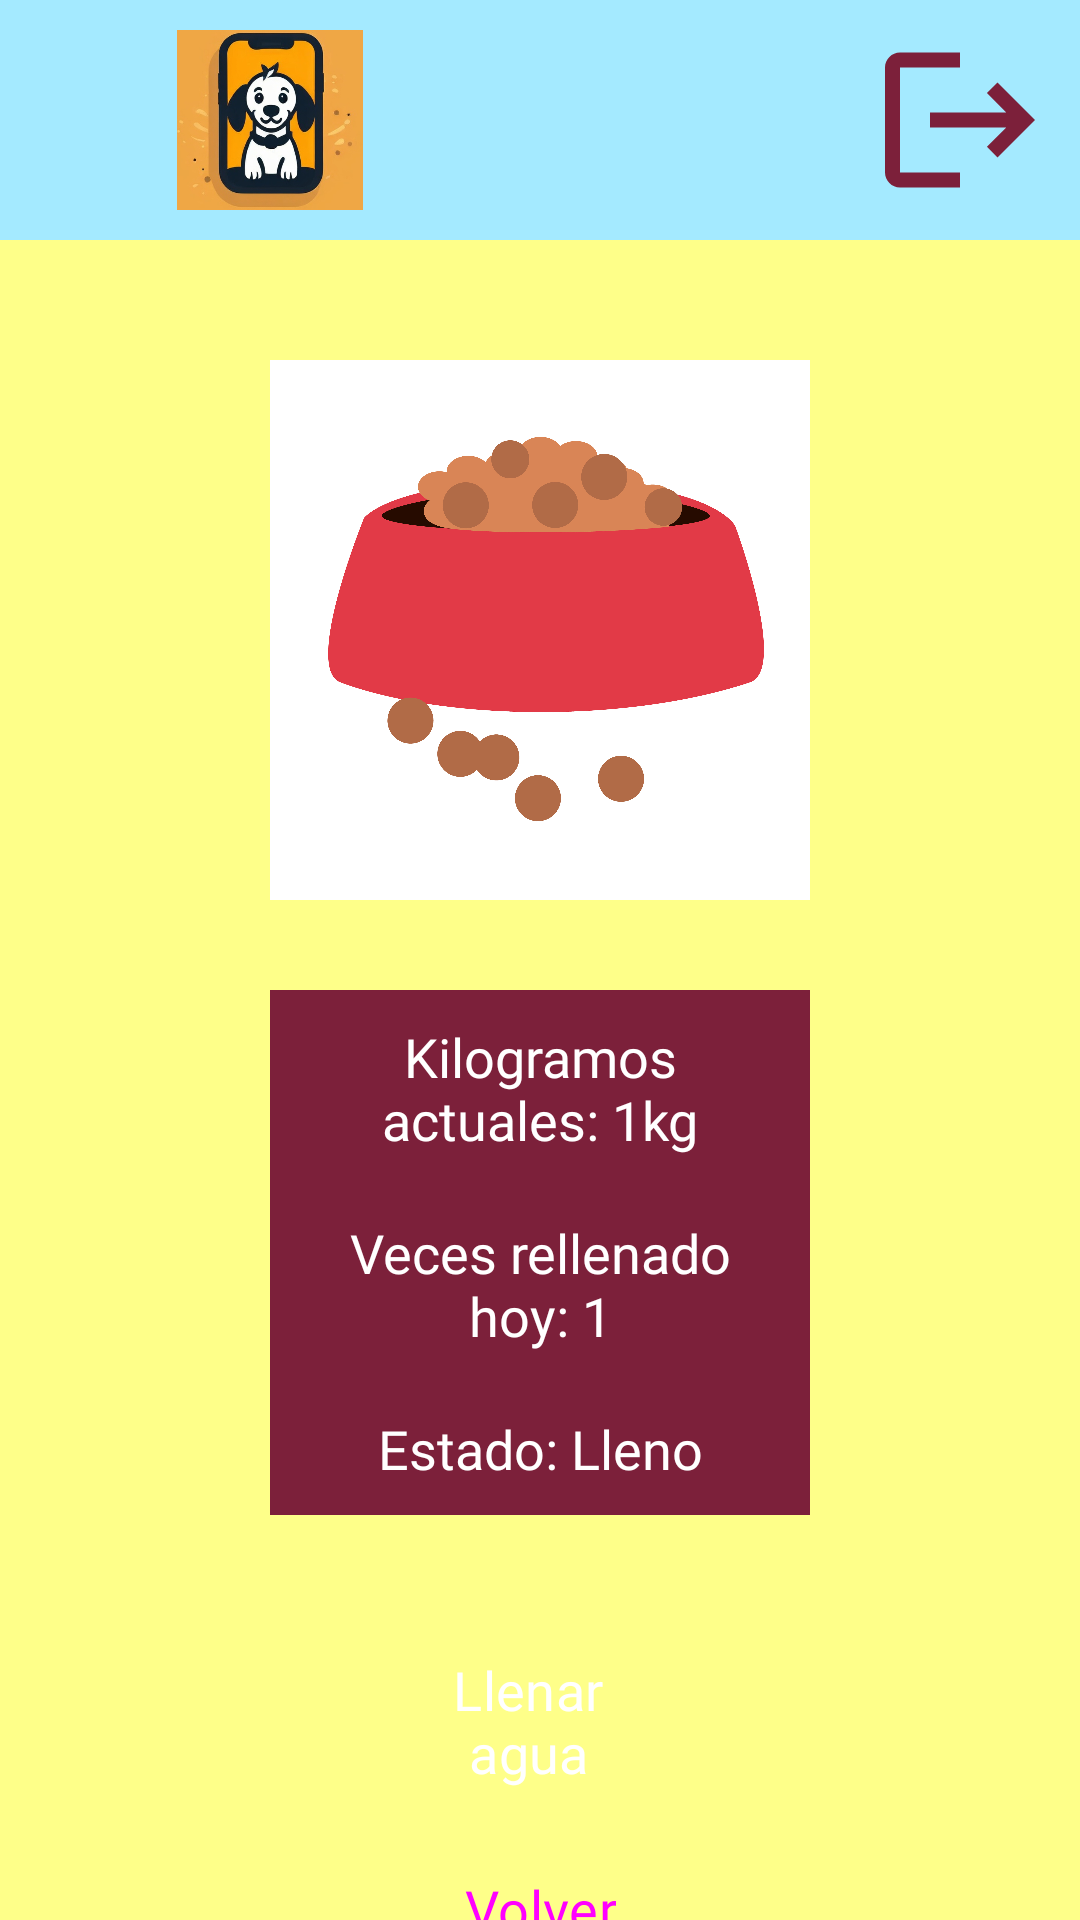

Screen size 1080w x 1920h. Icon name, then its center in pixels as point (x, y):
Icono salir: point (960, 120)
